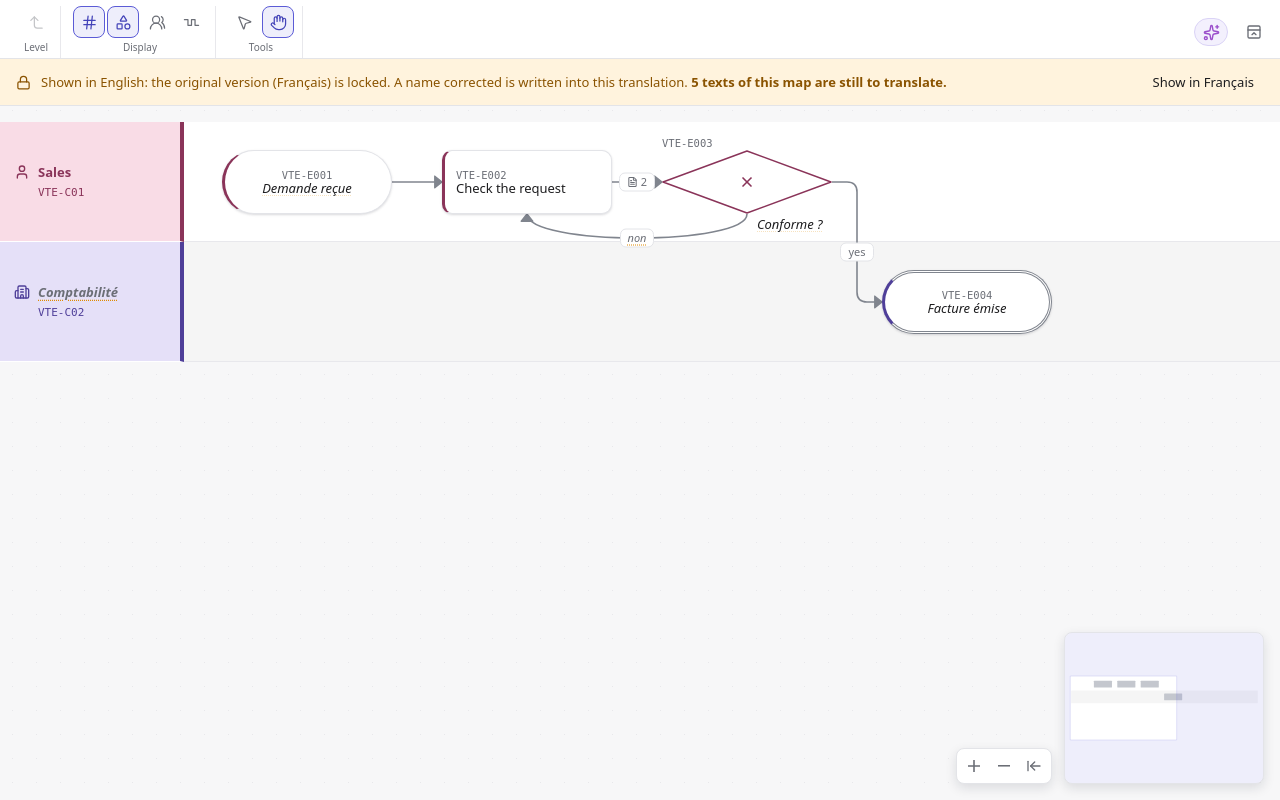
Scenario: the sheet docked on the right (B-4-01, B-4-05, B-2.1-39, B-2.1-40) › the step and its lane named in the language shown
The image size is (1280, 800).
Click the element showing "VTE-E002 Check the request" at (527,182), box [442,150,612,214]
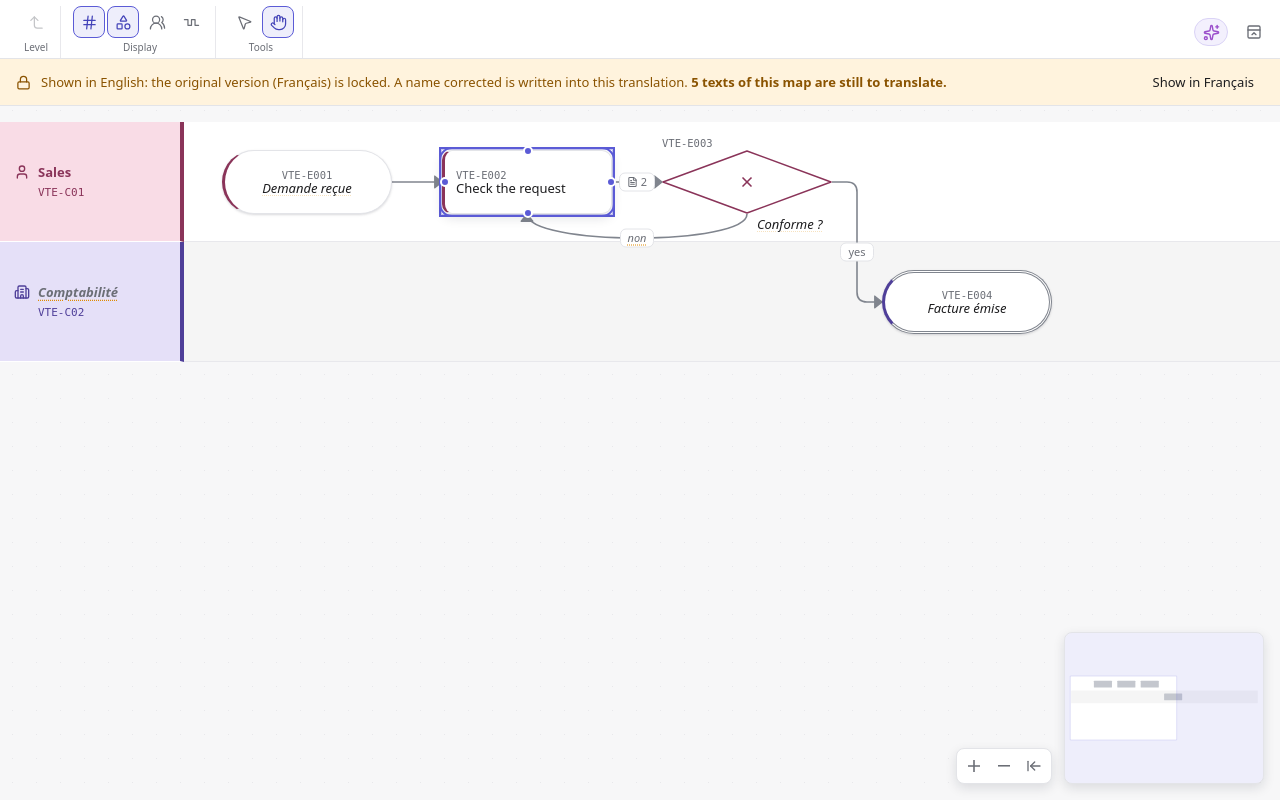
Press Enter in the element showing "VTE-E002 Check the request", box [442,150,612,214]
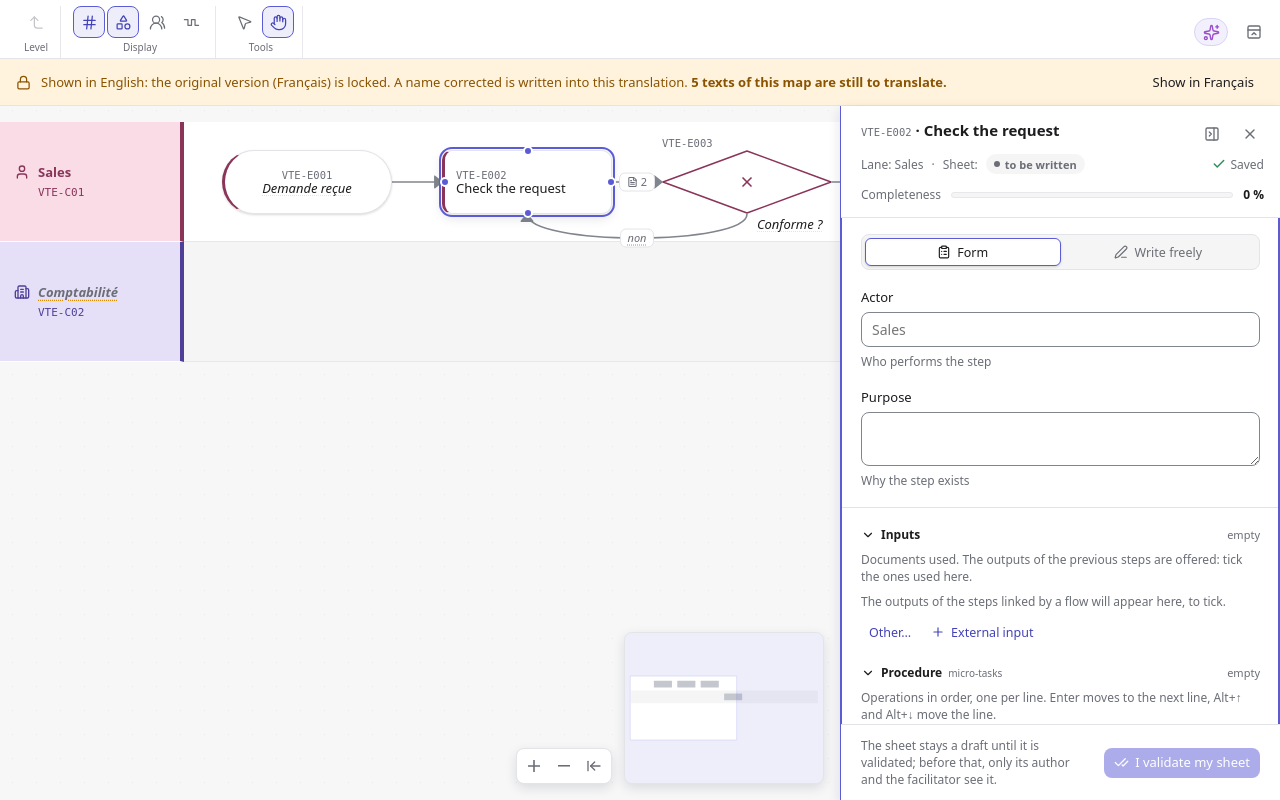
Expected: the heading with test id "sheet-title" reads "VTE-E002 · Check the request", [861,120,1060,140]
Expected: the text "Lane: Sales" is shown, [861,156,924,172]
